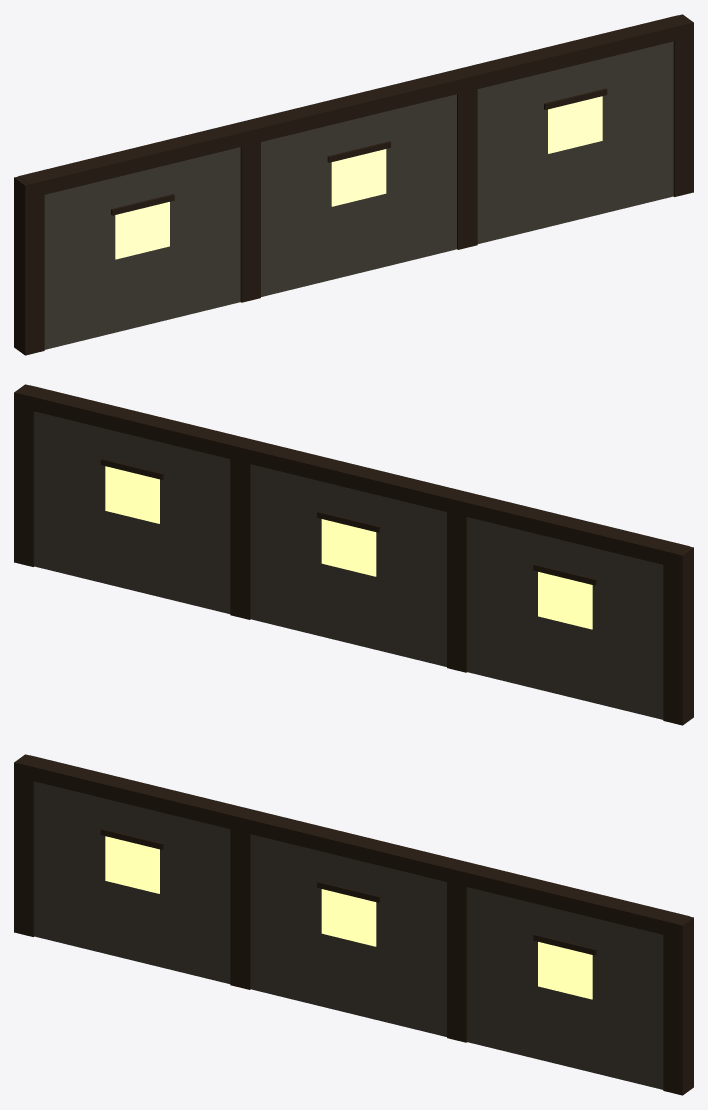
File: inn_front.glb
3 renders of one model, top to bottom at view 1: azimuth 30°, elevation 25°; view 2: azimuth 150°, elevation 25°; view 3: azimuth 330°, elevation 25°, orthographic.
Parts seen in each view (by area): view 1: InnFront; view 2: InnFront; view 3: InnFront.
Part boxes in pixels (x1,y1,x2,y2): InnFront: [14, 14, 693, 355]; InnFront: [14, 384, 693, 725]; InnFront: [14, 754, 693, 1095].
Size of the model in its own units: 12.36 by 3.01 by 0.38.
